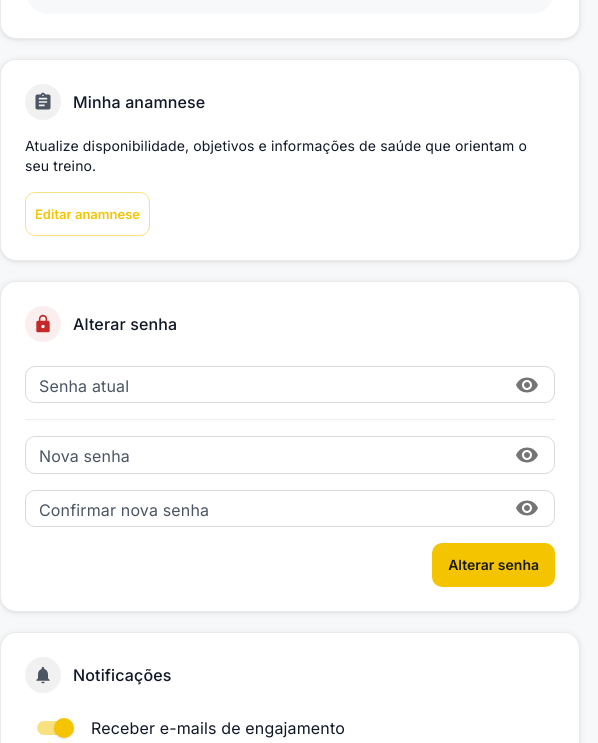
Scenario: /perfil — alterar senha › senha curta mostra erro de tamanho (paridade SenhaForte min 12 — FEAUTH-07)
(page scrolled)
Step 1. Type "old12345" into the password field labelled "Senha atual" → point(264, 385), box top-left (25, 366), bottom-right (502, 403)
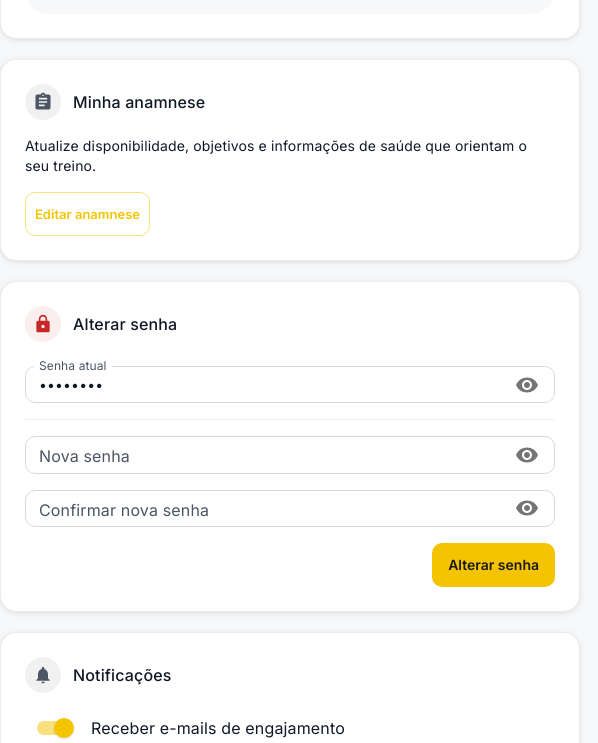
Step 2. Type "curta" into the password field labelled "Nova senha" → point(264, 455), box top-left (25, 436), bottom-right (502, 474)
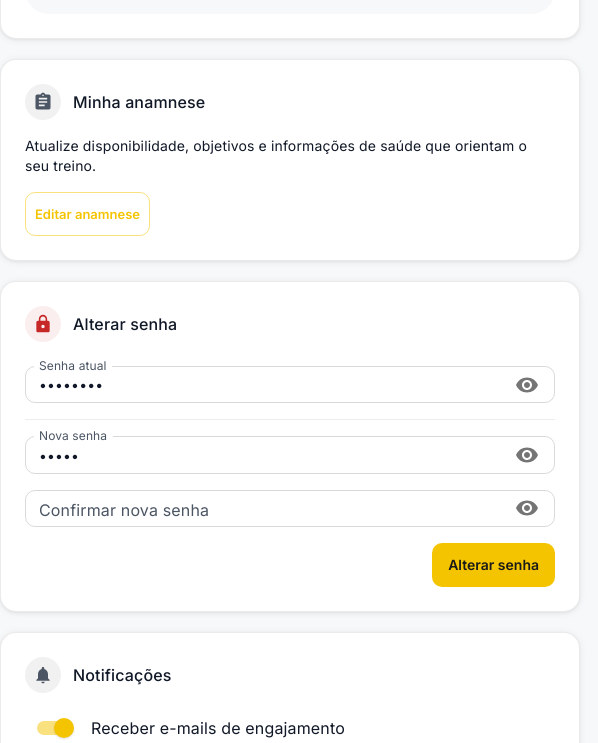
Step 3. Type "curta" into the password field labelled "Confirmar nova senha" → point(264, 508), box top-left (25, 490), bottom-right (502, 527)
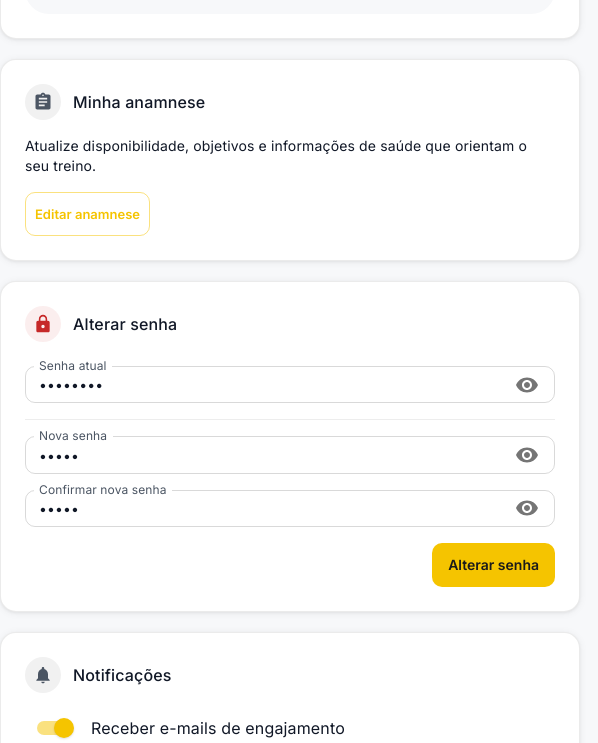
Step 4. Click the button "Alterar senha" → point(494, 565), box top-left (432, 543), bottom-right (555, 587)
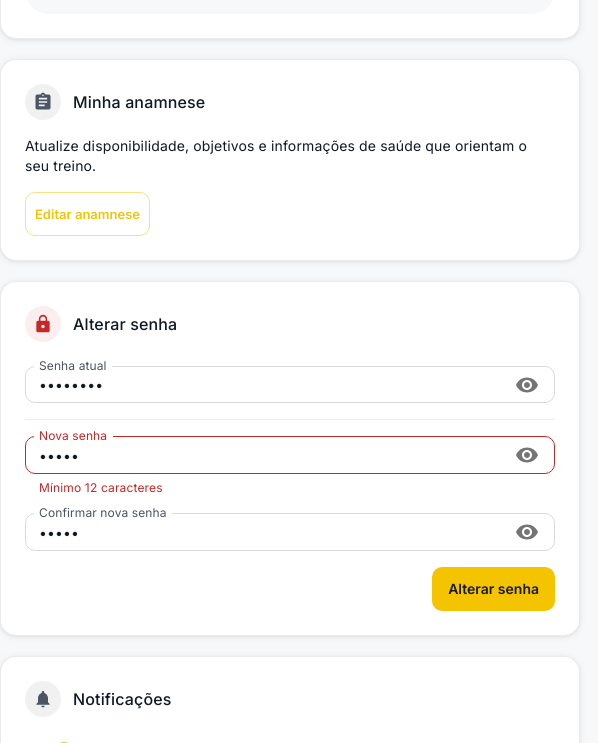
Check: the text "Mínimo 12 caracteres" is shown, box top-left (39, 480), bottom-right (163, 495)
